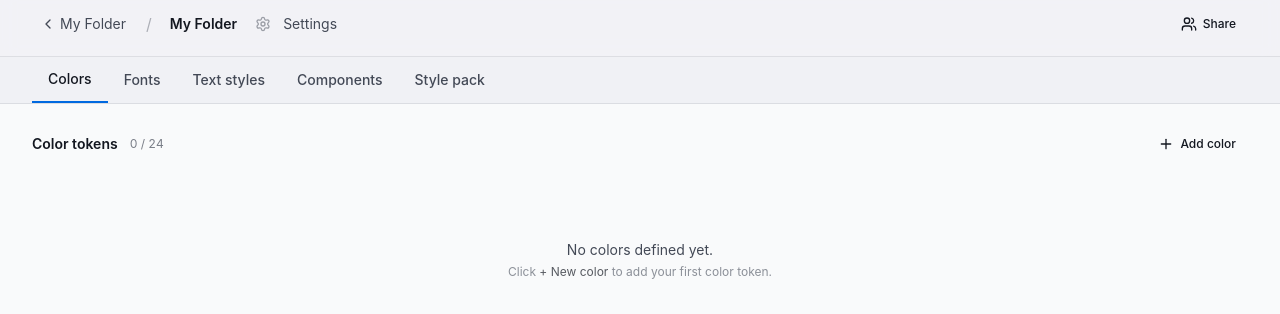
FolderSettings page › shows the color swatch after creating a color
Editing controls appear once the folder (and the user's role in it) has loaded.
Click the button with aria-label "new color" at (1197,144), box [1146,128,1248,160]
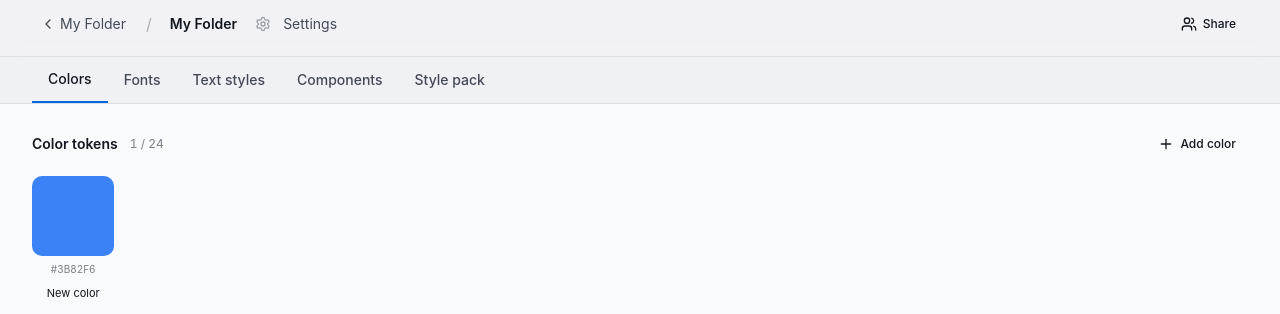
Expected: the button named "color: new color" is shown, [32,176,114,256]
